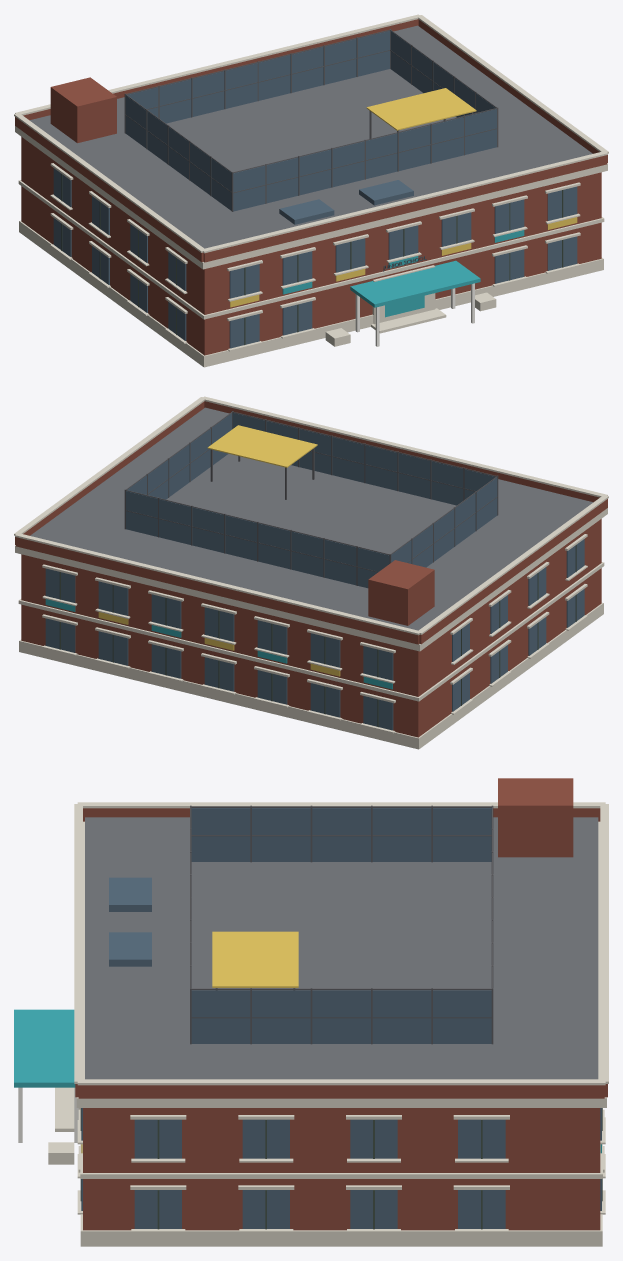
The model's file is birchwood_junior.glb.
3 views of the same model, one above another, from view 1: azimuth 30°, elevation 25°; view 2: azimuth 150°, elevation 25°; view 3: azimuth 270°, elevation 25° (orthographic). The views are drawn at different scales.
Parts seen in each view (by area): view 1: birchwood_junior_export; view 2: birchwood_junior_export; view 3: birchwood_junior_export.
Boxes of the visible parts, left/top/right/bottom form: birchwood_junior_export: left=14, top=14, right=608, bottom=367; birchwood_junior_export: left=14, top=396, right=608, bottom=749; birchwood_junior_export: left=14, top=778, right=608, bottom=1246.
Bounding box in the file's own units: 30.8 × 10.85 × 27.6.
